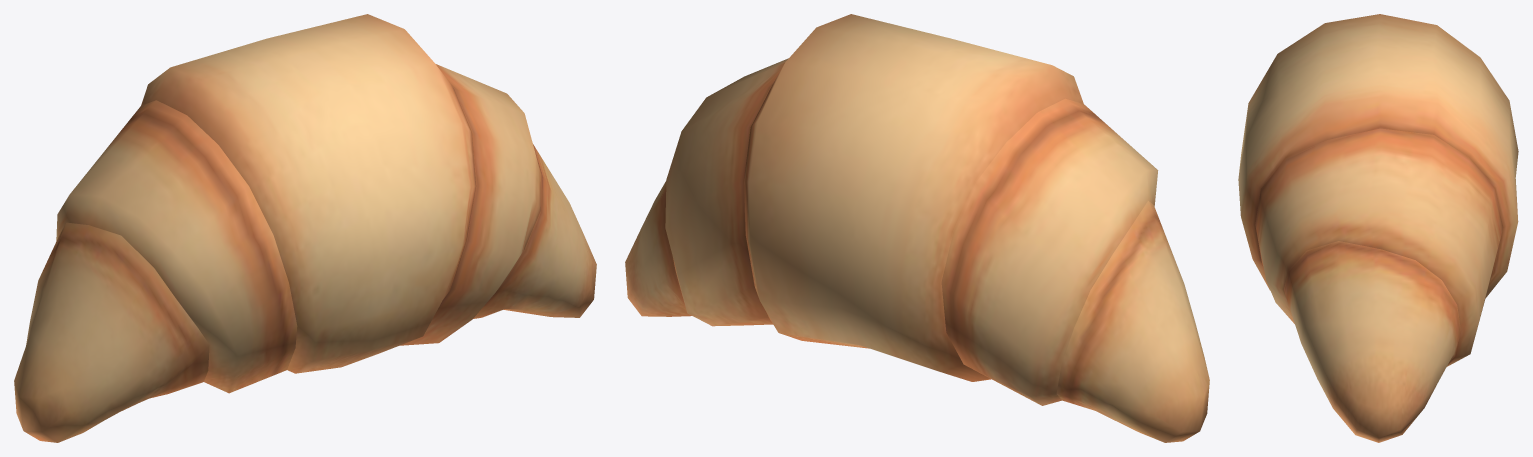
Rendered from brown_croissant.glb.
The picture shows the model from 3 angles, left to right: view 1: azimuth 30°, elevation 25°; view 2: azimuth 150°, elevation 25°; view 3: azimuth 270°, elevation 25°; orthographic projection. The views are drawn at different scales.
Parts seen in each view (by area): view 1: brown_croissant; view 2: brown_croissant; view 3: brown_croissant.
Boxes of the visible parts, x1,y1,x2,y2 form: brown_croissant: [14, 14, 596, 442]; brown_croissant: [625, 14, 1209, 442]; brown_croissant: [1238, 14, 1518, 442].
Bounding box in the file's own units: 0.7427 × 0.4072 × 0.3696.
1 material, 1 textured.
